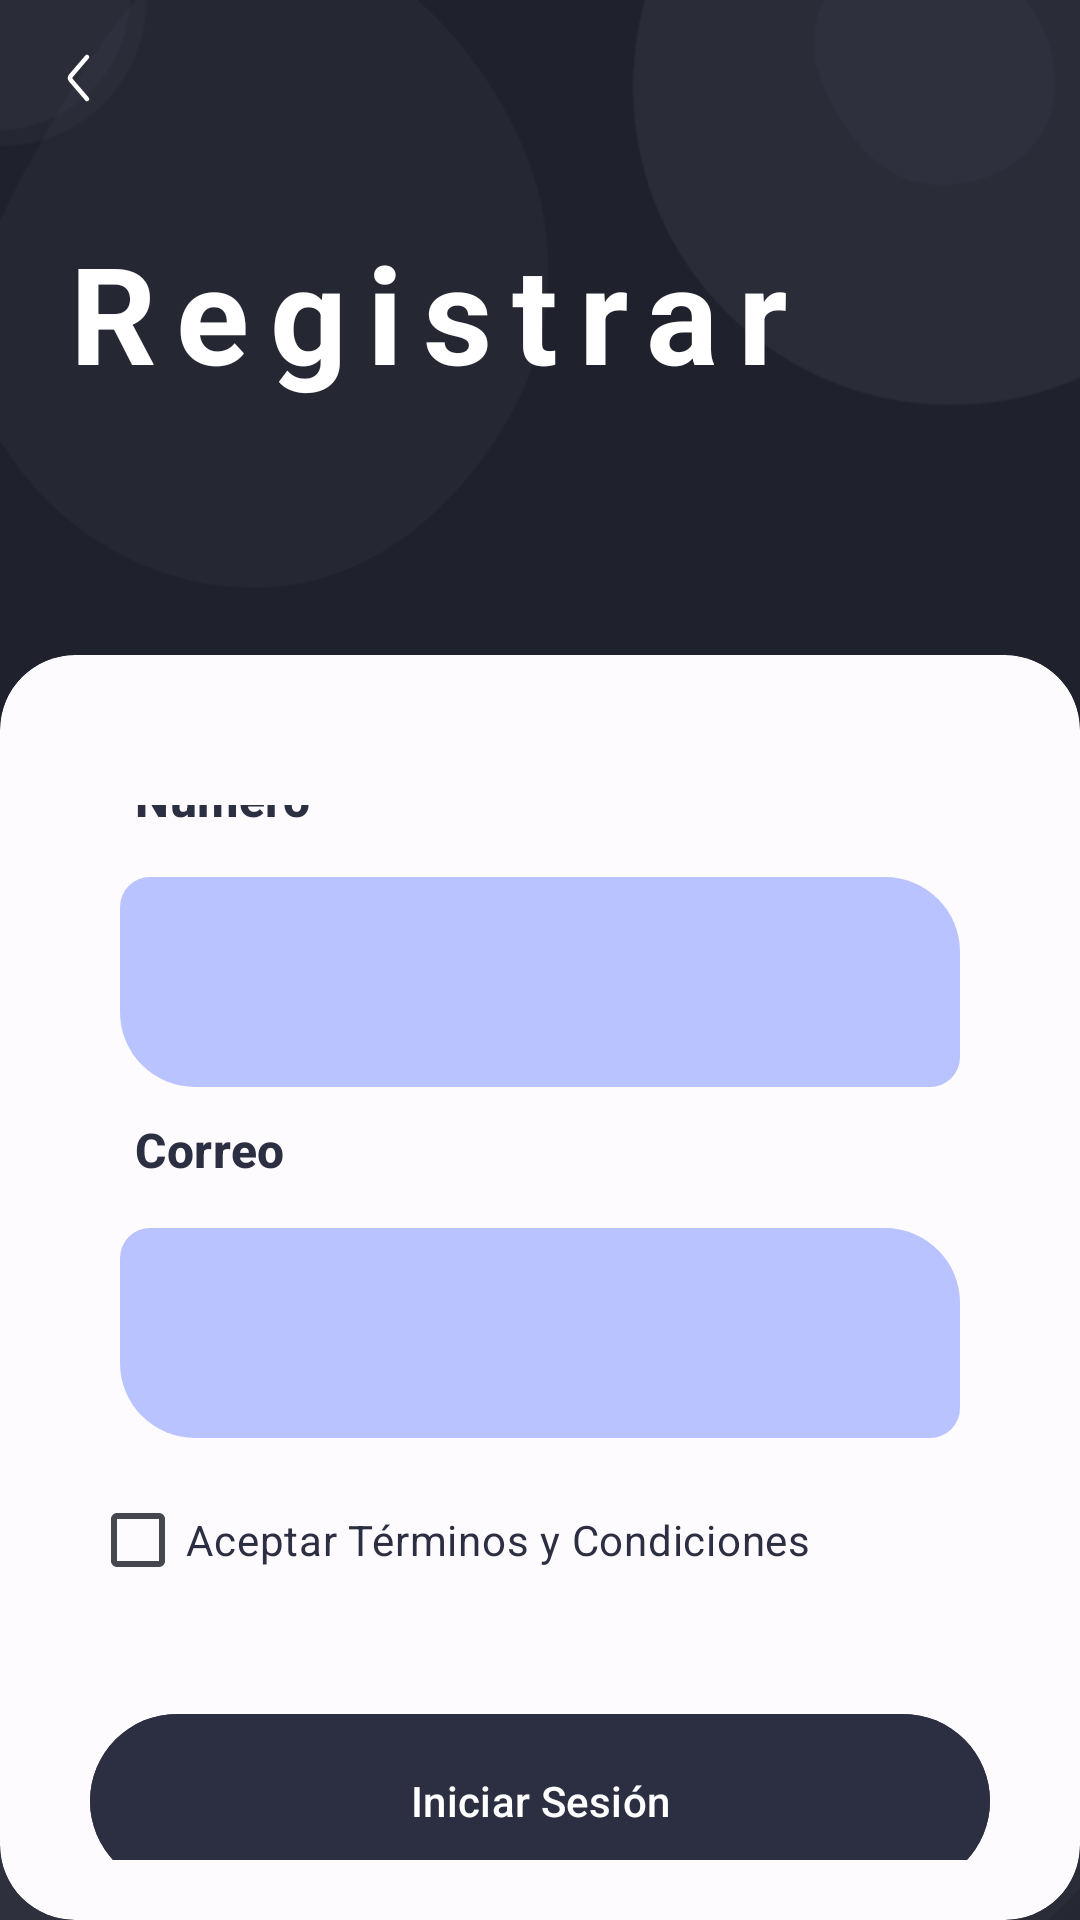

Point at icon controls on the screen. Image size 1080px x 1920px, points as (x=x, y=y).
regresar: (x=78, y=78)
